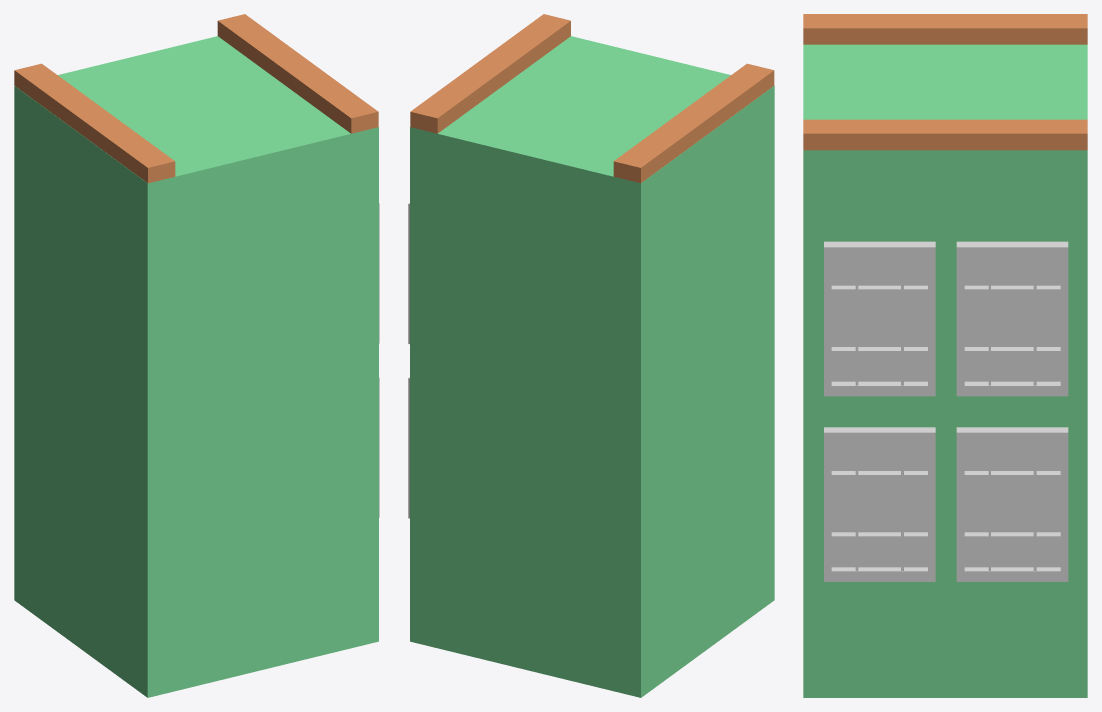
File: Building.fbx
3 views of the same model, side by side, from view 1: azimuth 30°, elevation 25°; view 2: azimuth 150°, elevation 25°; view 3: azimuth 270°, elevation 25° (orthographic). The views are drawn at different scales.
Visible parts, largest first — view 1: Cube, Cube.002, Cube.003; view 2: Cube, Cube.003, Cube.002; view 3: Cube, Plane.001, Plane.004, Plane, Plane.005, Cube.002, Cube.003, Cube.001, Cube.010, Cube.004, Cube.009.
Part boxes in pixels (x1,y1,x2,y2): Cube: [14, 36, 378, 697]; Cube.002: [217, 14, 378, 133]; Cube.003: [14, 63, 175, 183]; Cube: [410, 36, 774, 697]; Cube.003: [613, 63, 774, 183]; Cube.002: [410, 14, 570, 133]; Cube: [803, 44, 1087, 697]; Plane.001: [964, 257, 1060, 381]; Plane.004: [964, 443, 1060, 567]; Plane: [831, 257, 927, 381]; Plane.005: [831, 443, 927, 567]; Cube.002: [803, 119, 1087, 150]; Cube.003: [803, 14, 1087, 44]; Cube.001: [956, 241, 1068, 396]; Cube.010: [956, 427, 1068, 581]; Cube.004: [824, 241, 935, 396]; Cube.009: [824, 427, 935, 581].
Bounding box in the file's own units: 209 × 438 × 200.
